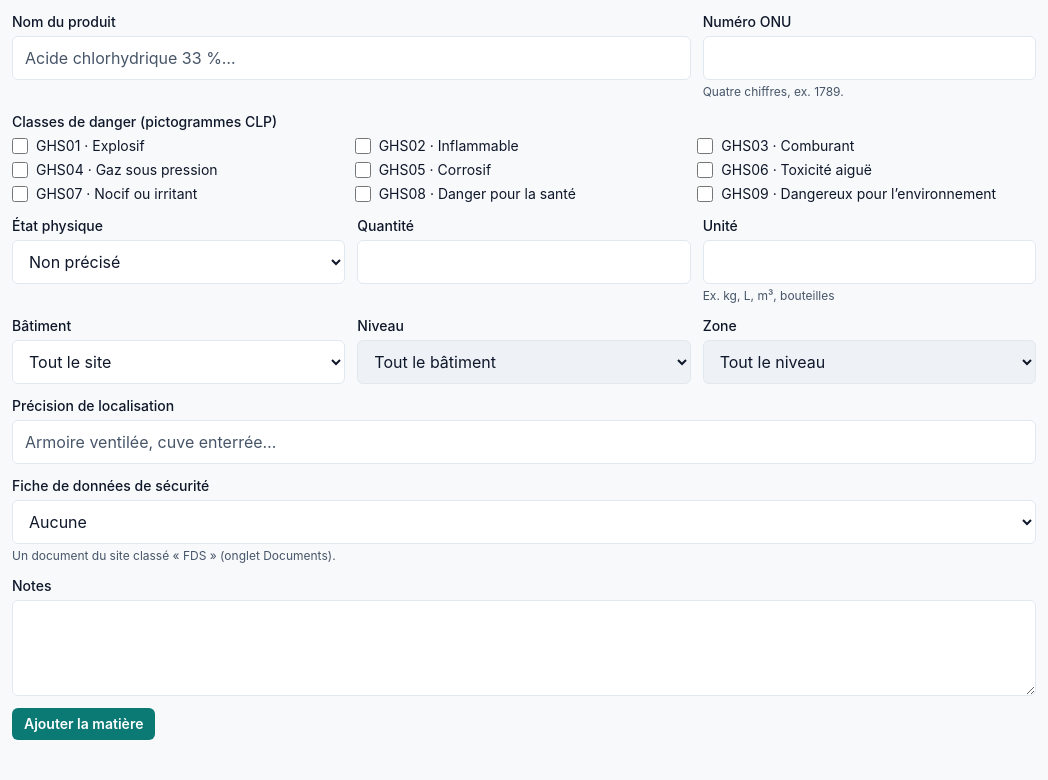
Test: SubstanceForm › requires the name and the unit of a quantity
The image size is (1048, 780).
In the field labelled "Quantité": (524, 262) [357,240,691,284], type "3"
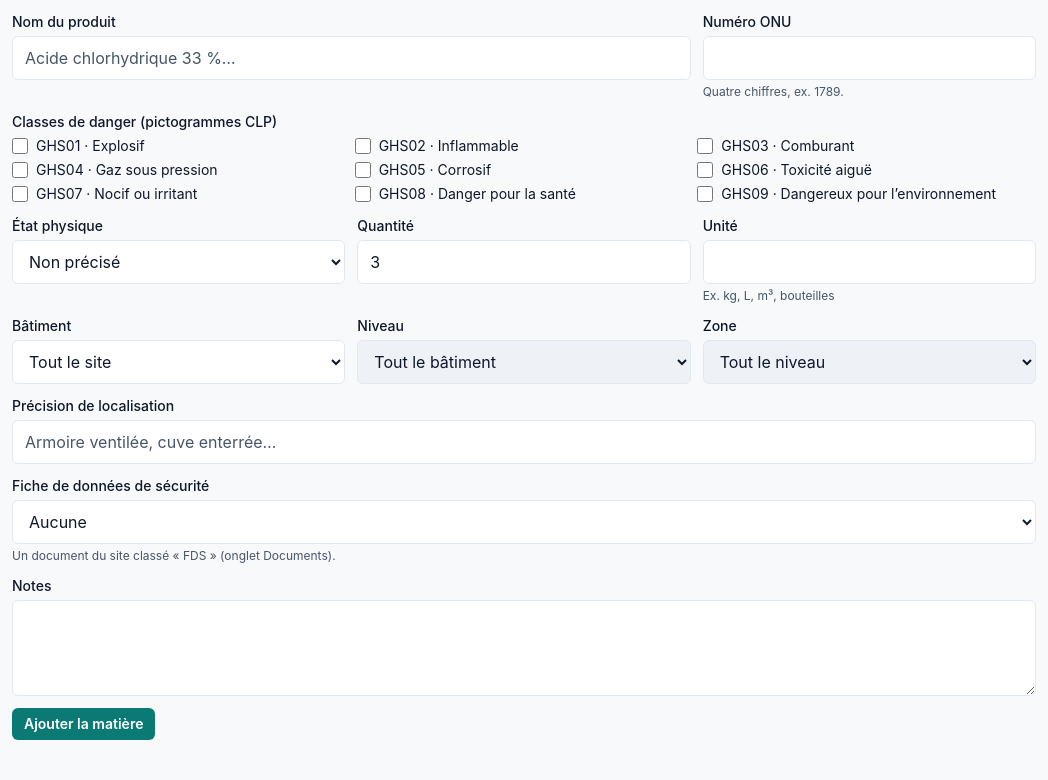
Click the button "Ajouter la matière": (84, 724) [12,708,155,740]
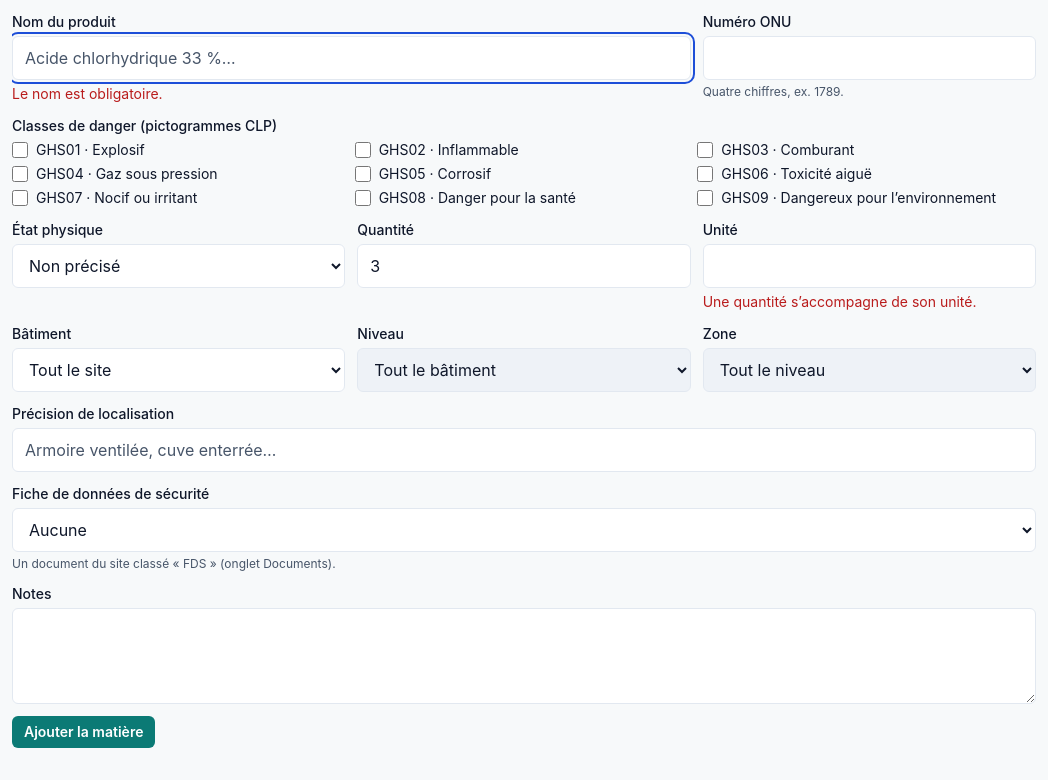
Check: the text "Le nom est obligatoire." is shown, box [12,85,163,102]
Check: the text "Une quantité s’accompagne de son unité." is shown, box [703,293,976,310]
